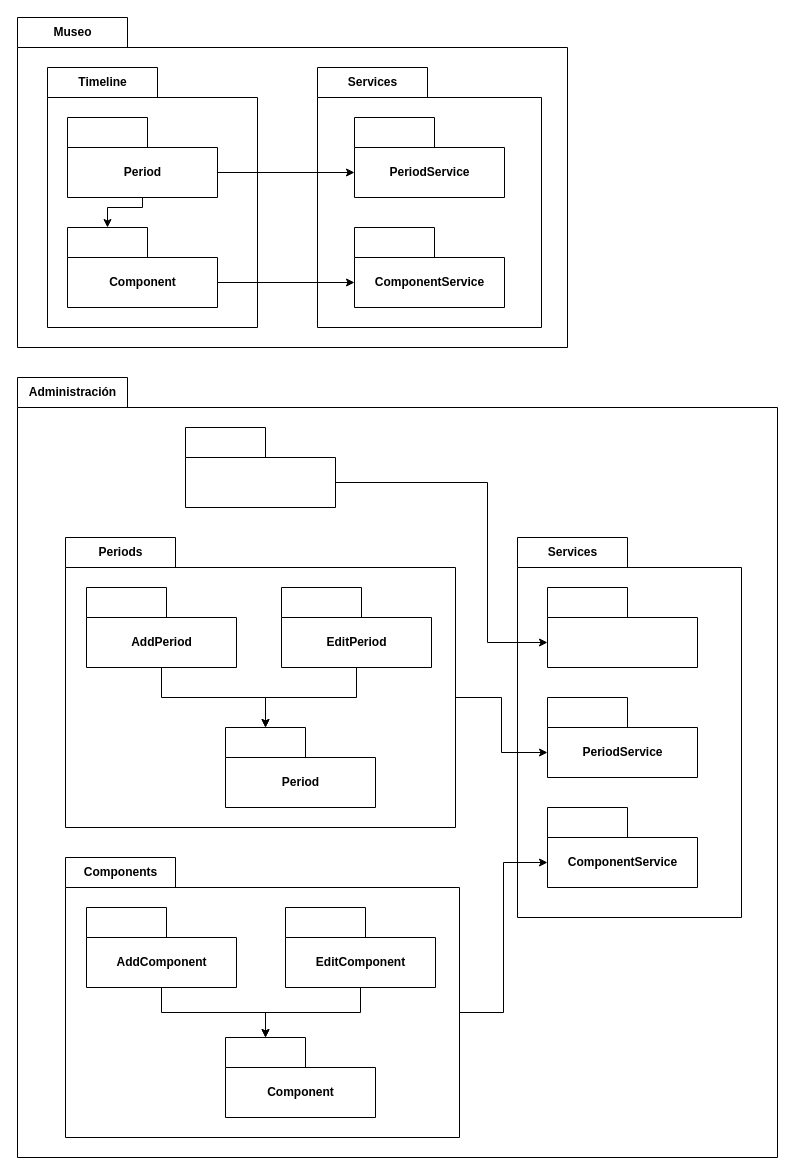
The diagram is 795 pixels wide and 1175 high, and some of its shapes have lost their labels. Each missing label, with the centre of its shape:
Login: the point at 260,467
UserService: the point at 622,627
